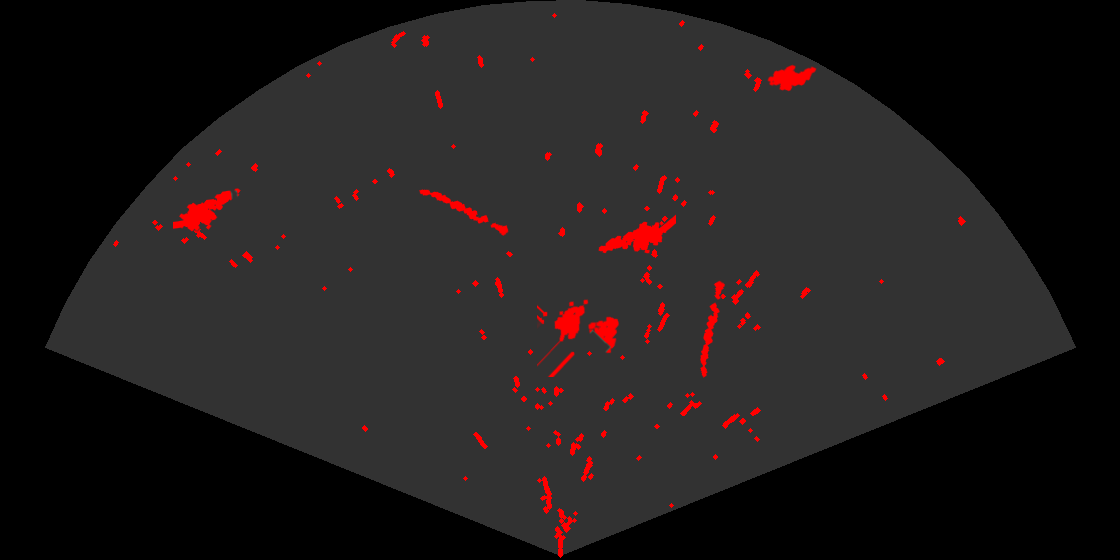AUV: (766, 63, 818, 93)
cage: (537, 298, 621, 377)
chain: (418, 188, 510, 237), (699, 278, 726, 379)
frogman: (597, 213, 676, 255), (173, 187, 242, 233)
